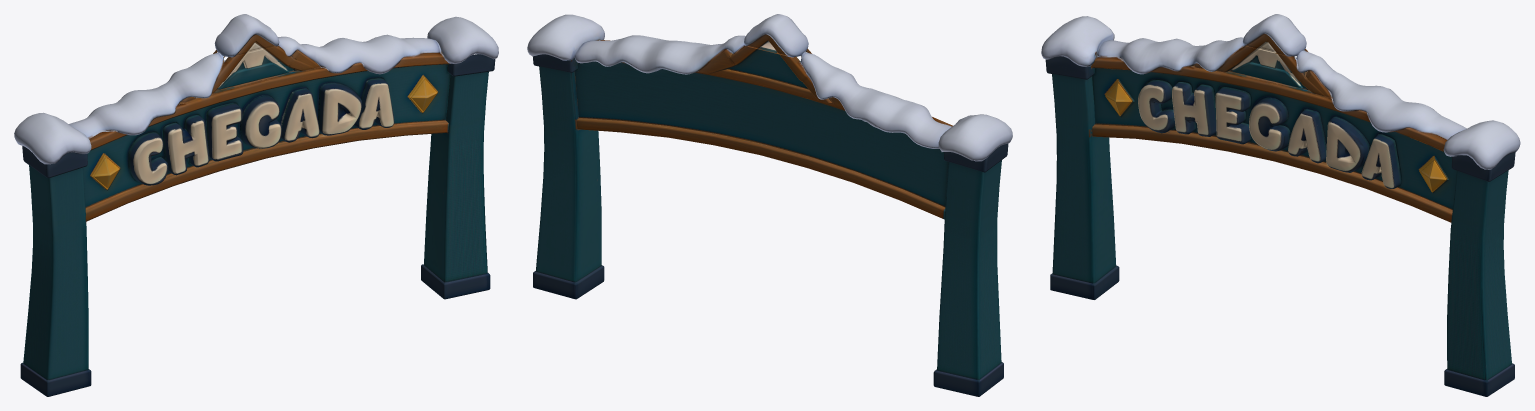
Rendered from finish-gate.glb.
3 renders of one model, left to right at view 1: azimuth 30°, elevation 25°; view 2: azimuth 150°, elevation 25°; view 3: azimuth 330°, elevation 25°, orthographic.
Visible parts, largest first — view 1: def0d286_a920_4b55_b978_678911928244; view 2: def0d286_a920_4b55_b978_678911928244; view 3: def0d286_a920_4b55_b978_678911928244.
Boxes of the visible parts, x1,y1,x2,y2 form: def0d286_a920_4b55_b978_678911928244: (14,14,498,396); def0d286_a920_4b55_b978_678911928244: (527,14,1012,396); def0d286_a920_4b55_b978_678911928244: (1041,14,1520,396).
Size of the model in its own units: 0.9995 by 0.6616 by 0.146.
Materials: 1 (1 with a texture image).
